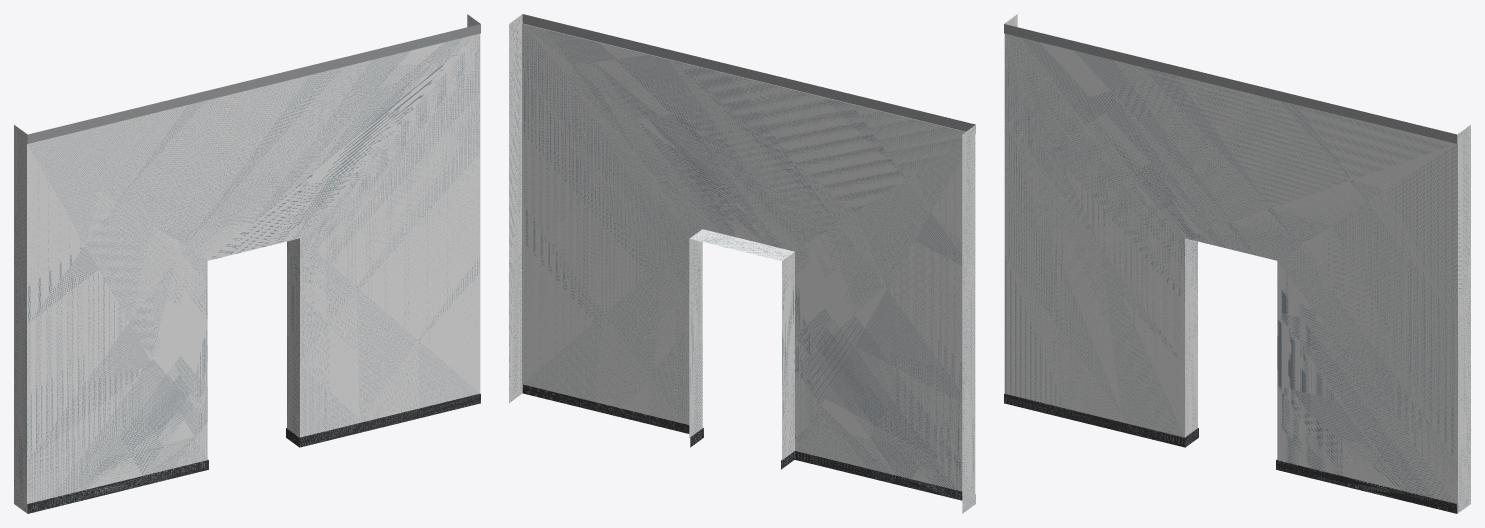
File: BlockWall_os_plinth_[500x400x025]_102x220_doorway.dae
3 views of the same model, side by side, from view 1: azimuth 30°, elevation 25°; view 2: azimuth 150°, elevation 25°; view 3: azimuth 330°, elevation 25° (orthographic).
Parts seen in each view (by area): view 1: group_0 (×4); view 2: group_0 (×4); view 3: group_0 (×4).
Boxes of the visible parts, bbox=[...] form: group_0 (×4): bbox=[14, 14, 480, 513]; group_0 (×4): bbox=[509, 14, 975, 513]; group_0 (×4): bbox=[1004, 14, 1470, 513].
Size of the model in its own units: 197 by 10.24 by 157.
